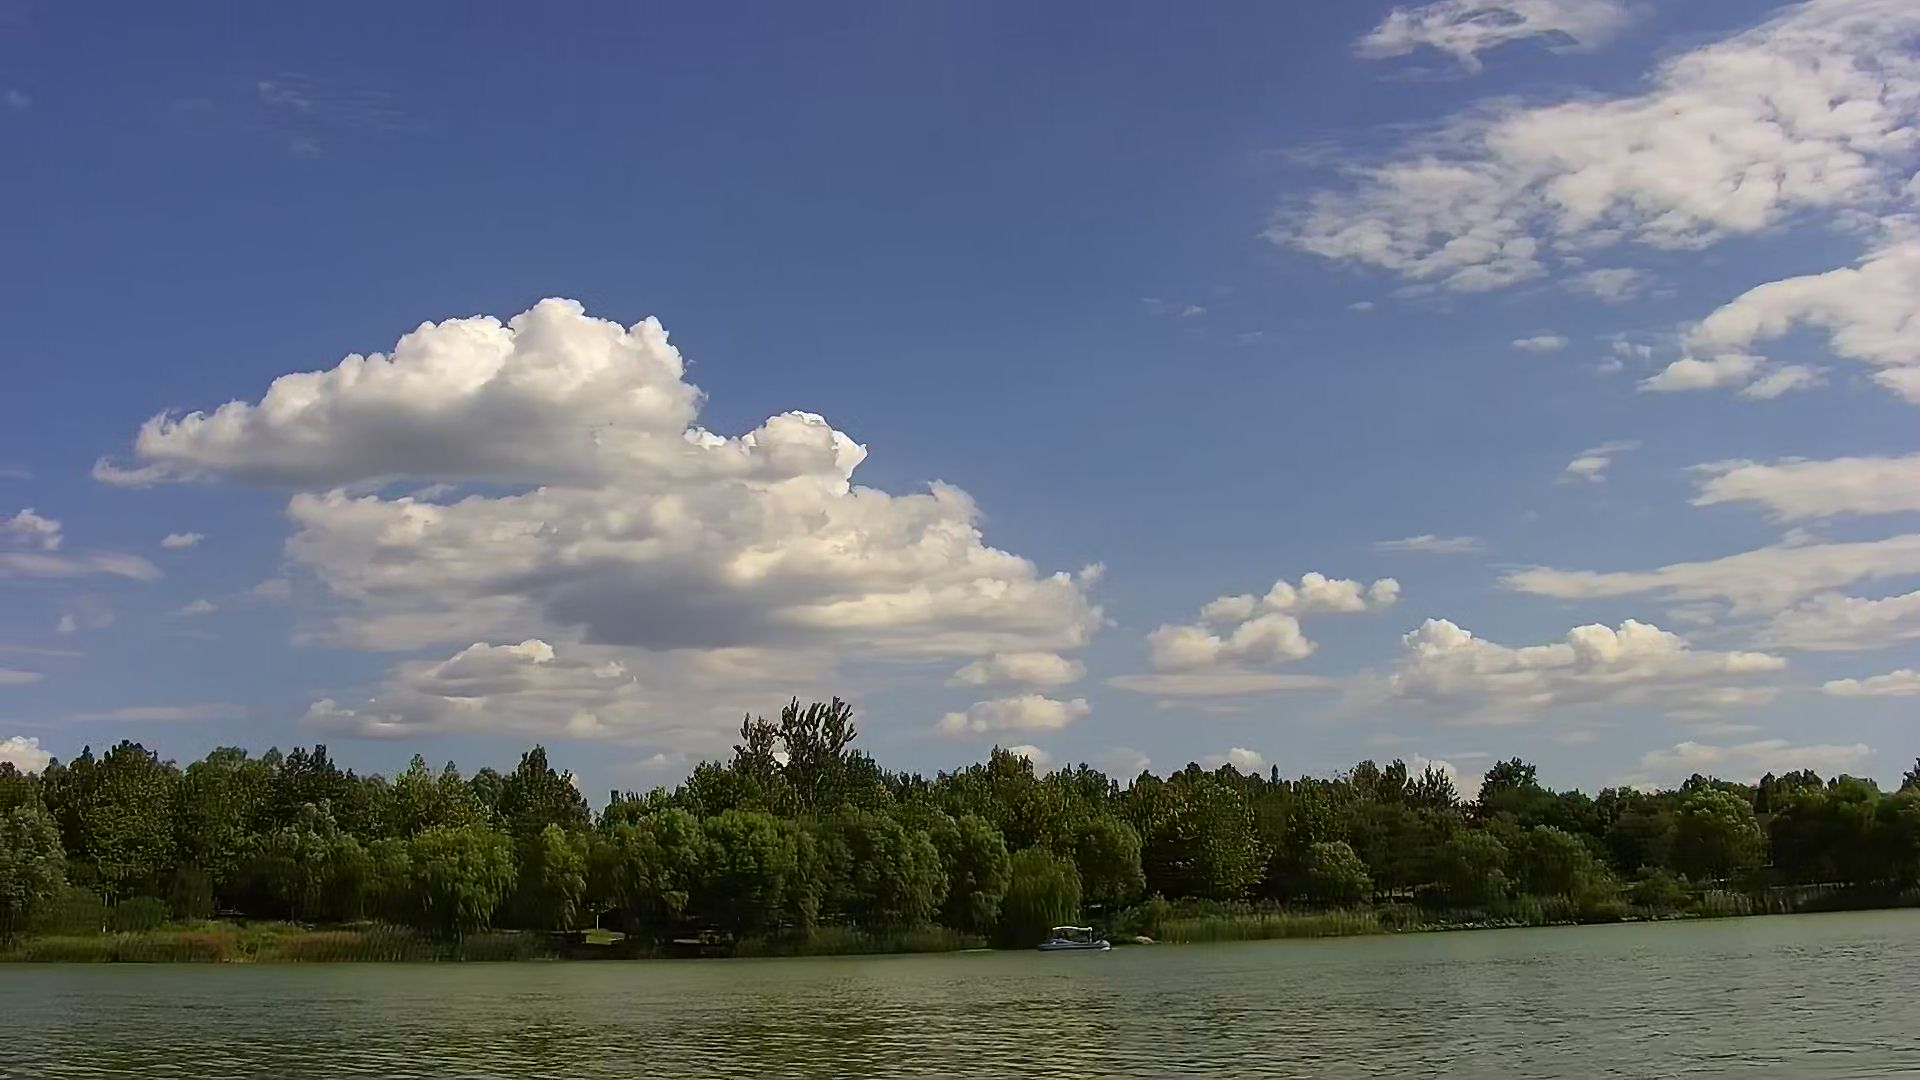boat: (1033, 924, 1120, 953)
